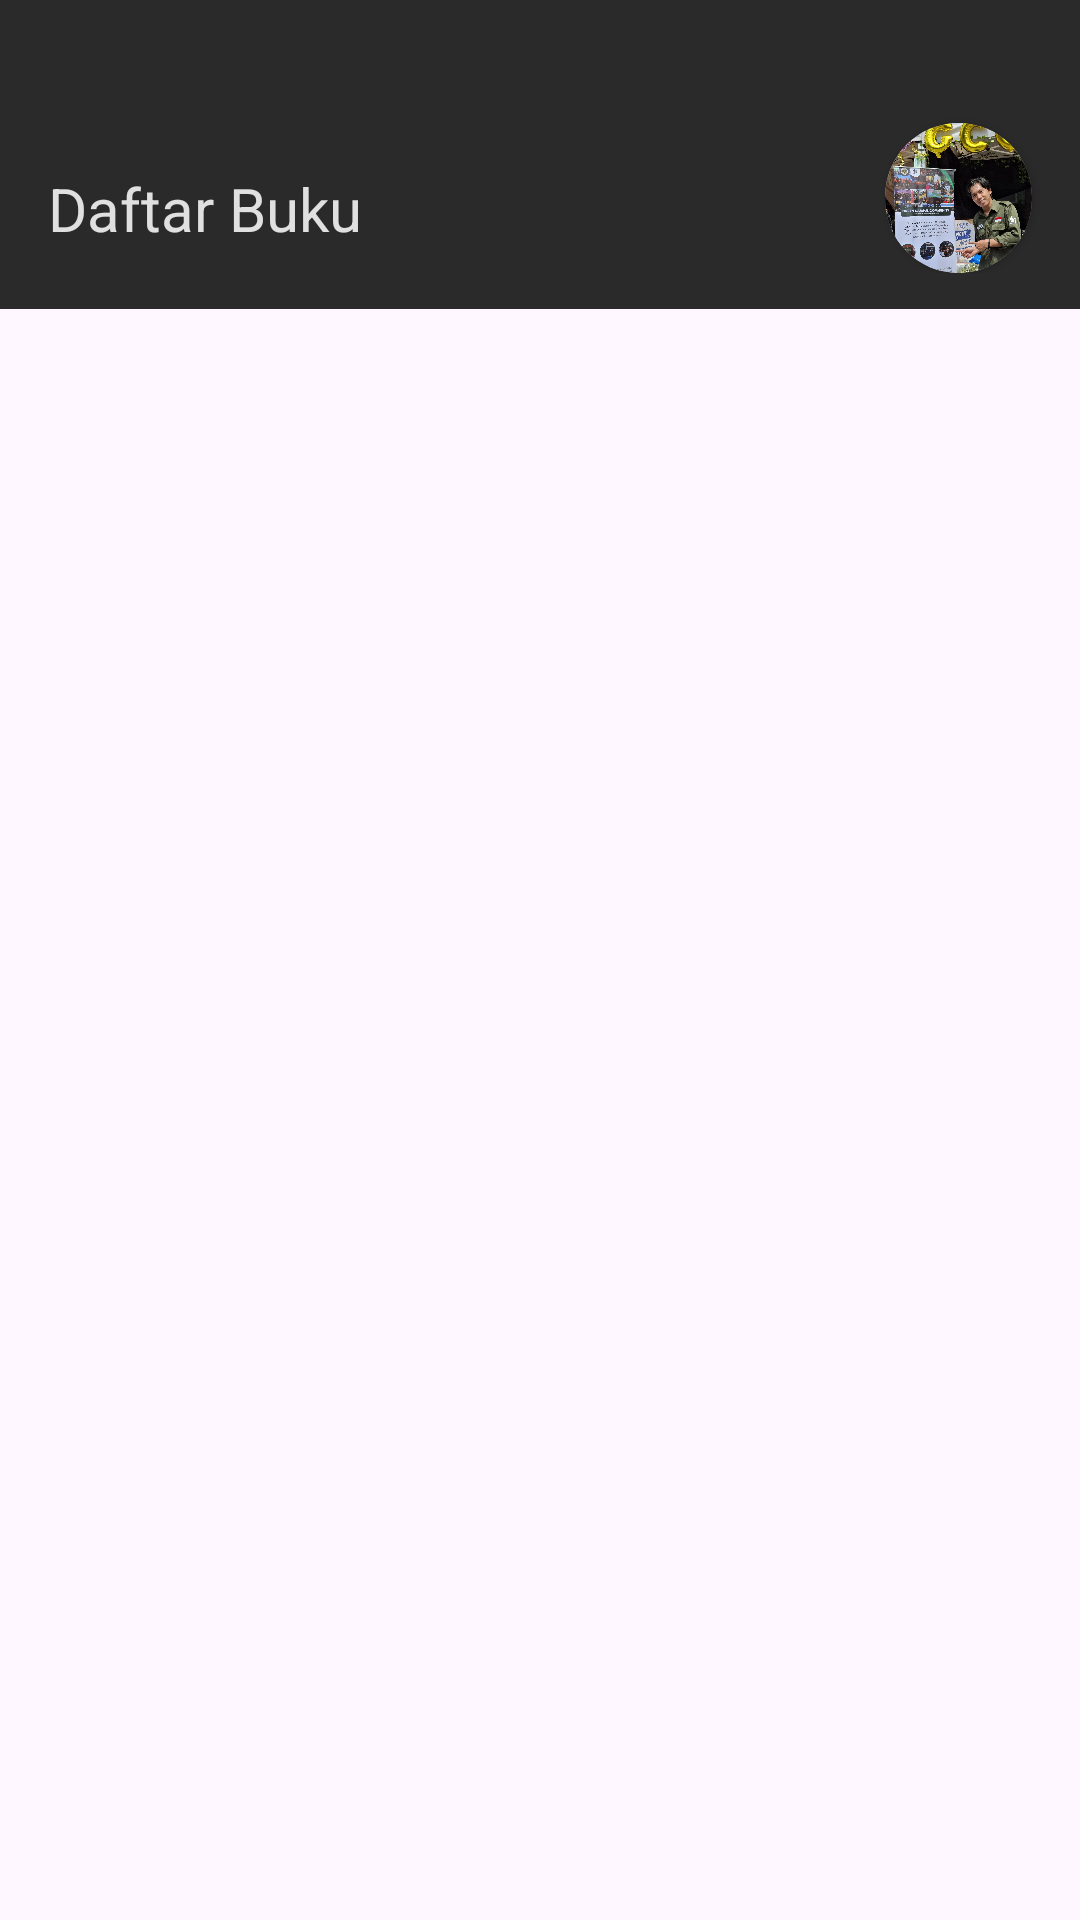

Icon click points for this 1080x1920 phone screenshot, format point (x, y):
foto saya: point (958, 198)
